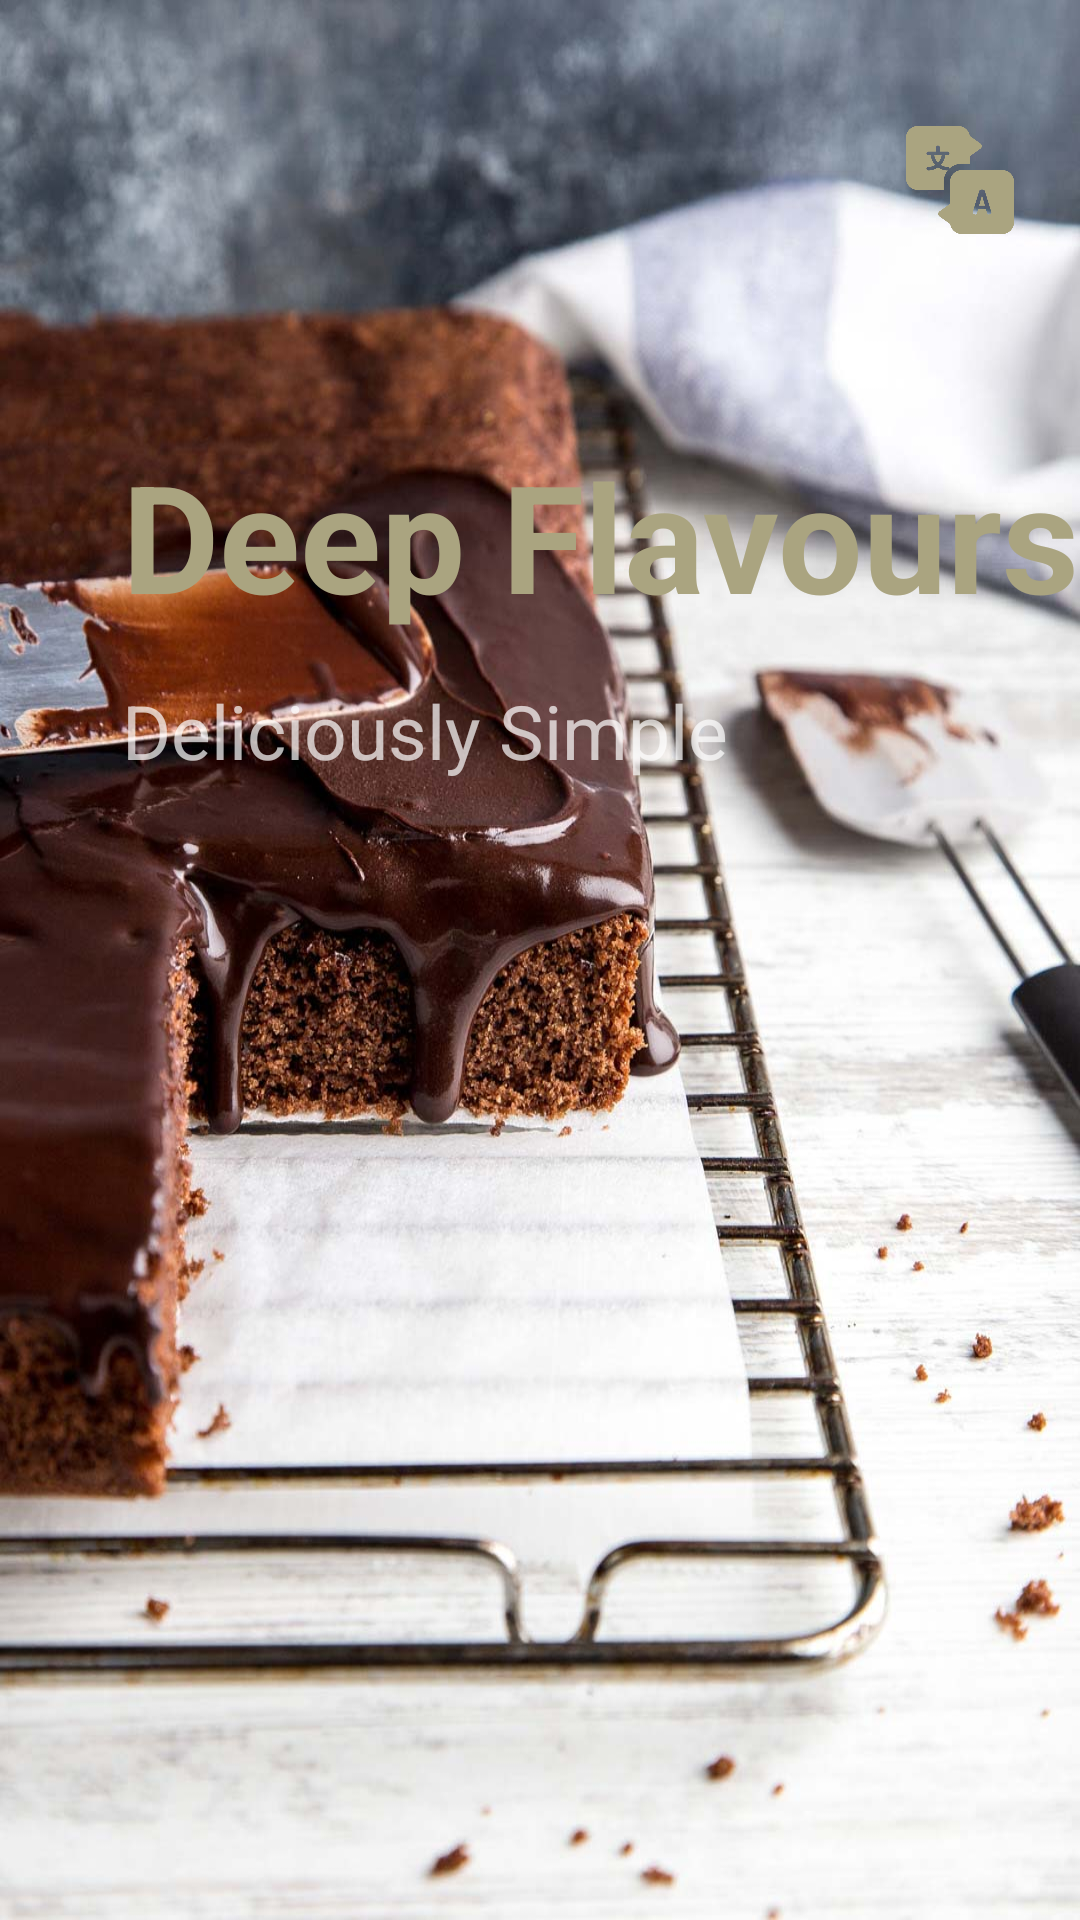

Screen size 1080px x 1920px. Icon name, then its center in pixels as point (x, y):
translate: point (960, 180)
